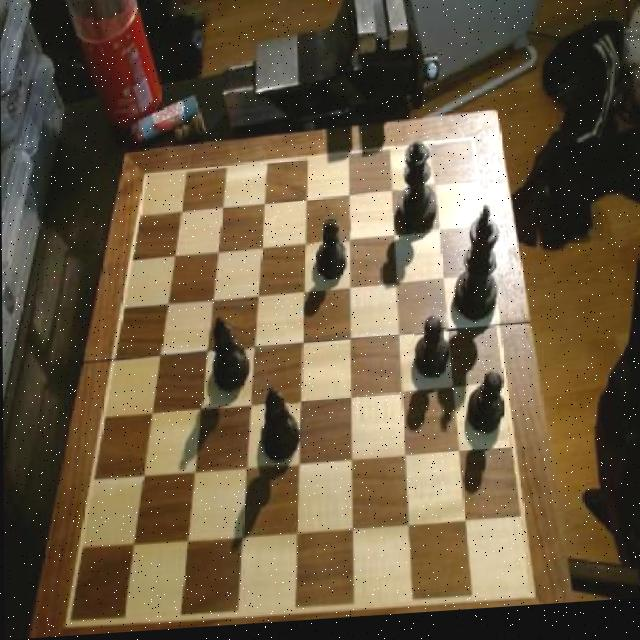bishop: (258, 387, 301, 473), (207, 317, 249, 402)
black-bishop: (454, 209, 502, 334)
black-knight: (465, 377, 505, 449), (312, 221, 350, 289), (413, 321, 449, 391)
black-pawn: (396, 144, 439, 245)
